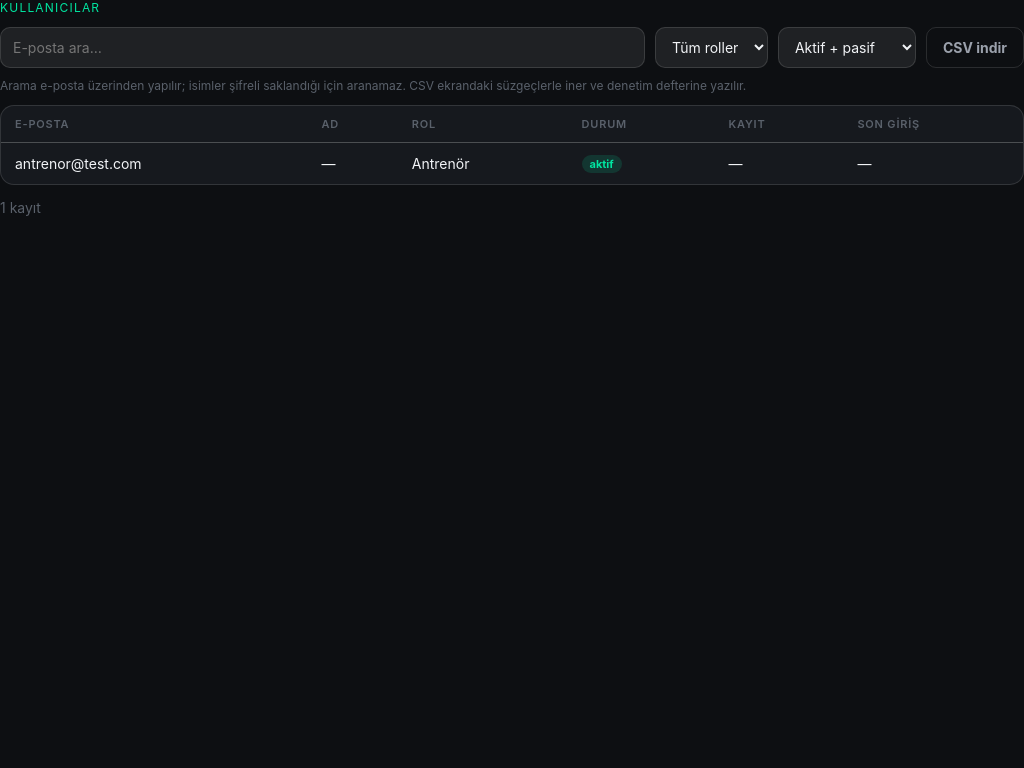
it: UsersPage Bileşen Testleri › rol tabloda ve çekmecede Türkçe gösterilir
Check: the cell "Antrenör" is shown, box [398,142,568,184]
Check: the text "antrenor@test.com" is shown, box [1,142,308,184]
Click the row "antrenor@test.com — Antrenör aktif — —": (78, 164) [1,142,1023,184]
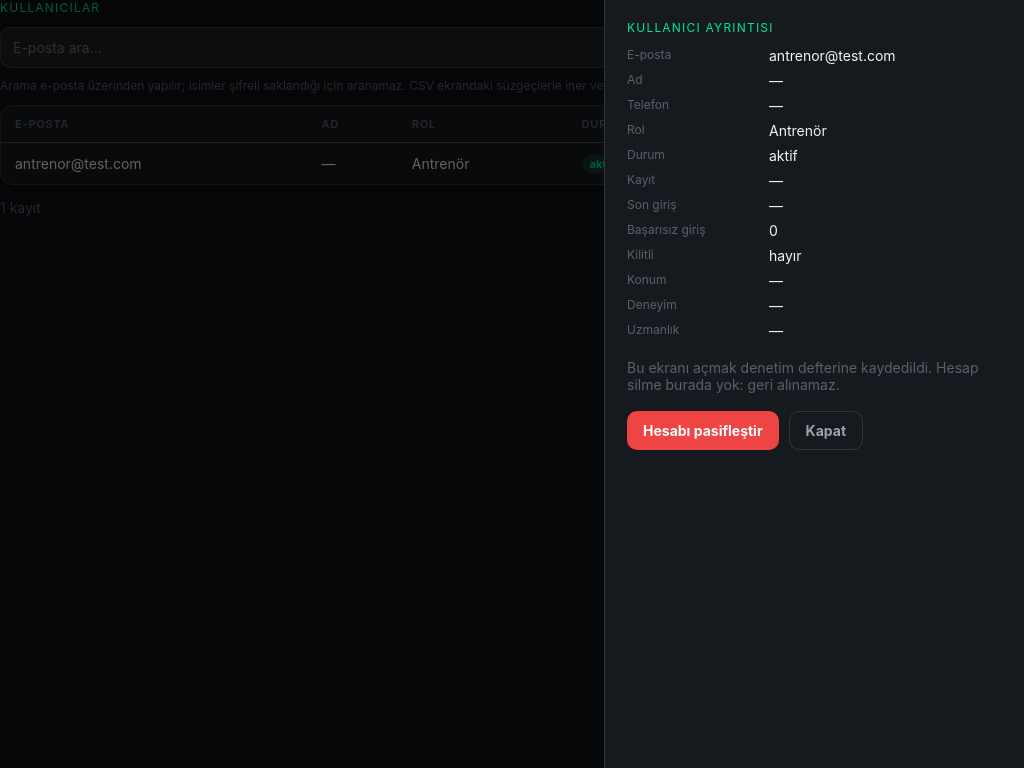
Check: the text "Kullanıcı ayrıntısı" is shown, box [627,20,774,35]
